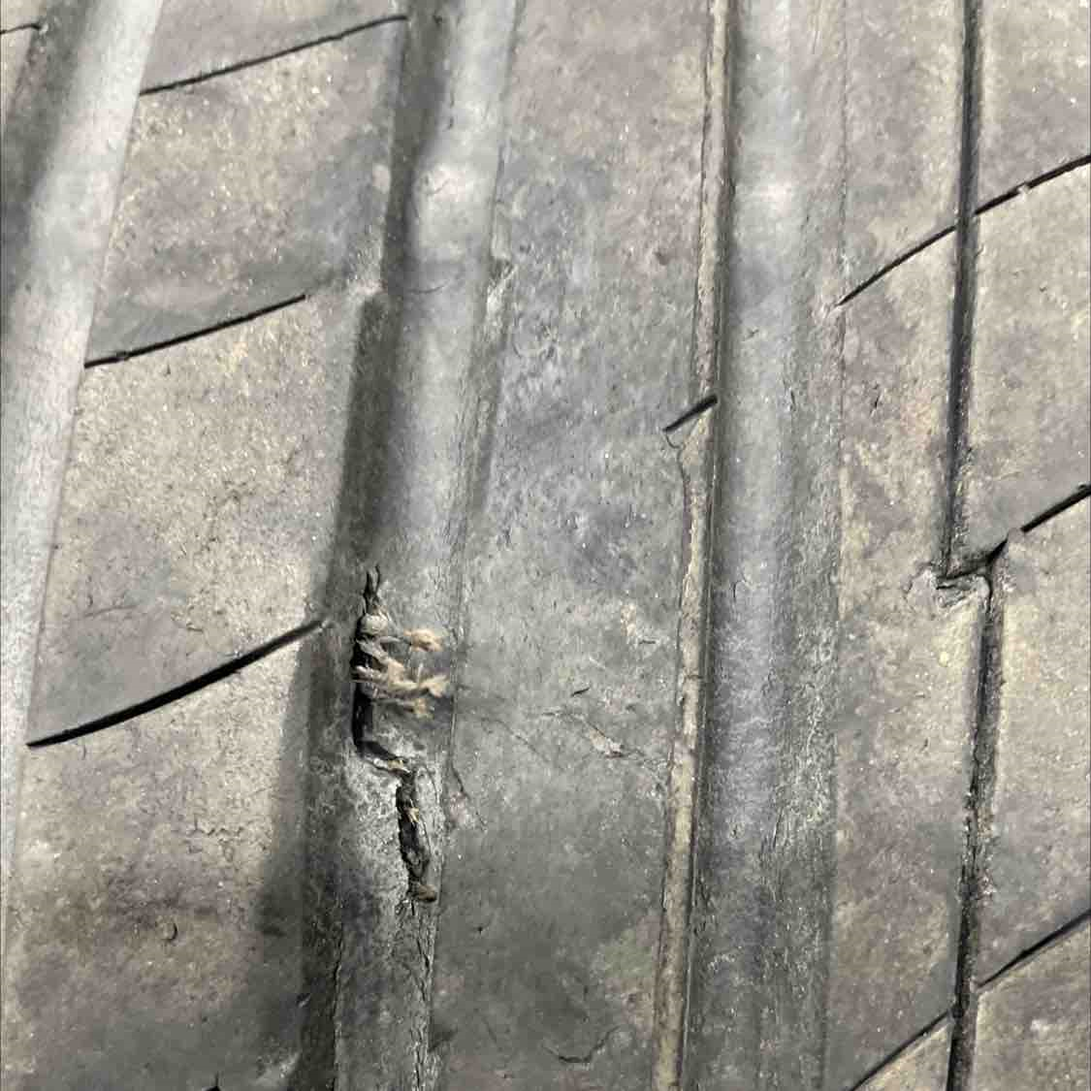tr: (339, 561, 448, 919)
